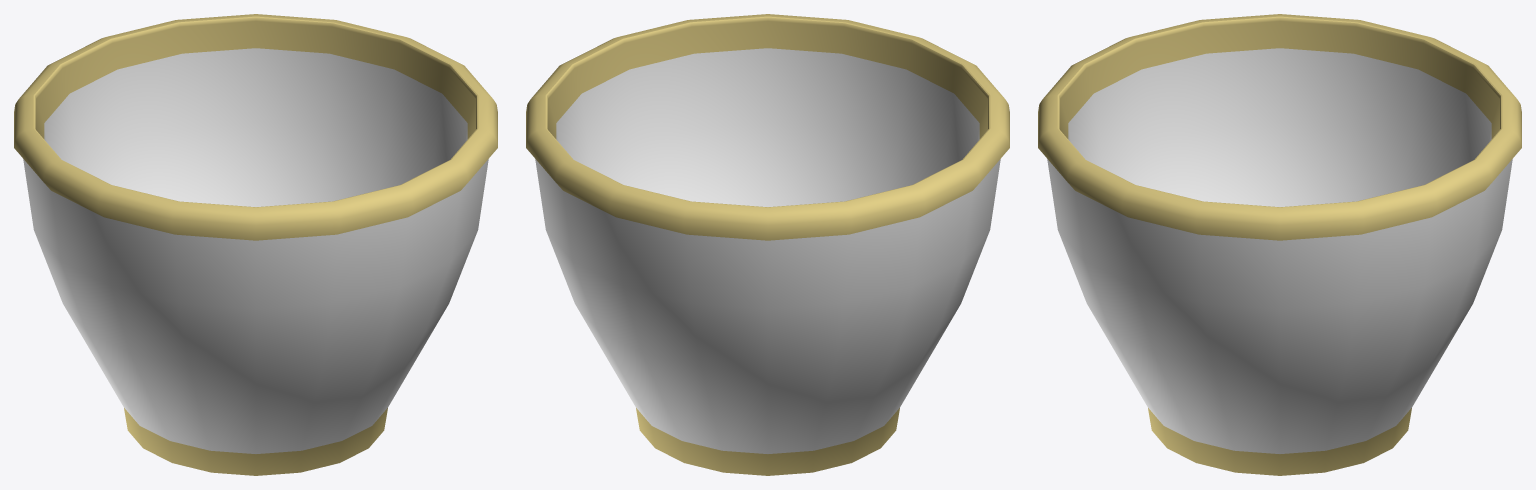
File: Glass 3.fbx
3 renders of one model, left to right at view 1: azimuth 30°, elevation 25°; view 2: azimuth 150°, elevation 25°; view 3: azimuth 270°, elevation 25°, orthographic.
Visible parts, largest first — view 1: glass 3; view 2: glass 3; view 3: glass 3.
Boxes of the visible parts, x1,y1,x2,y2 form: glass 3: (14, 14, 497, 475); glass 3: (526, 14, 1009, 475); glass 3: (1038, 14, 1521, 475).
Bounding box in the file's own units: 8.66 × 6.01 × 8.53.
Materials: 1 (1 with a texture image).
